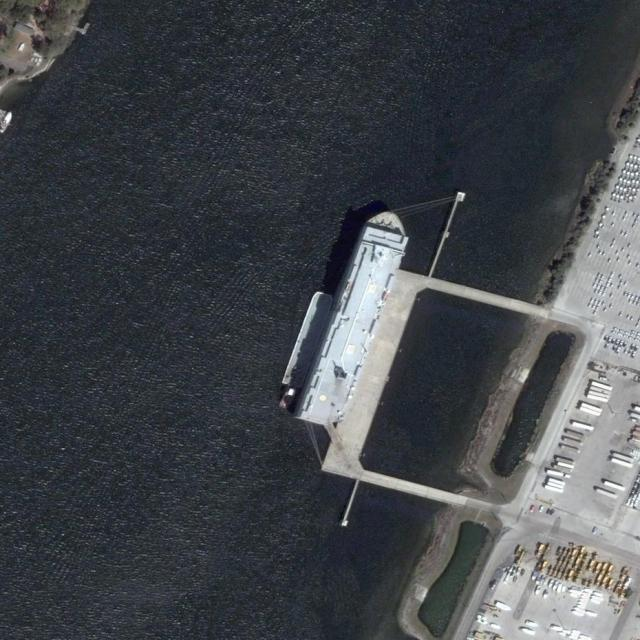Dock: (322, 264, 425, 484)
RoRo: (299, 205, 413, 432)
